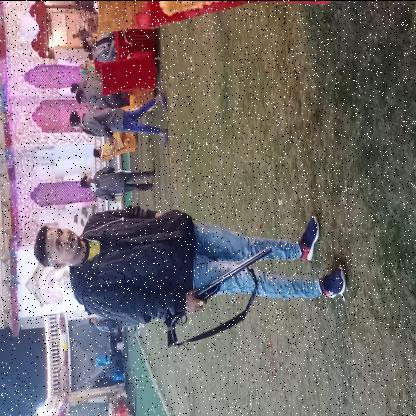rifle: (163, 244, 273, 348)
